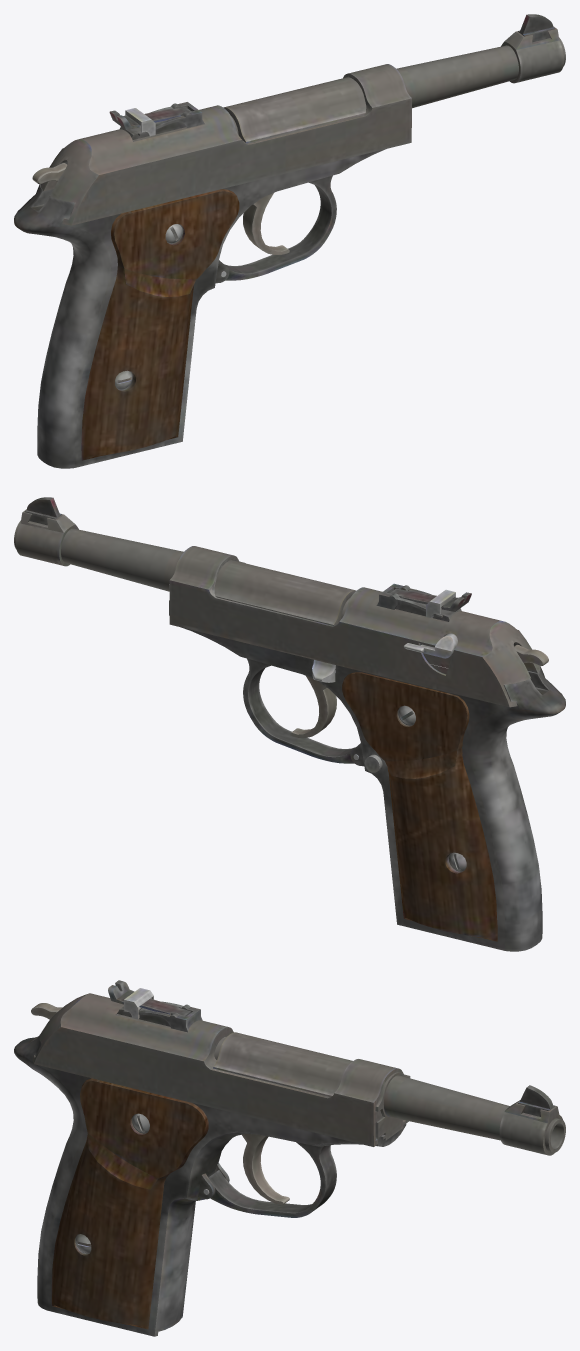
Rendered from service_pistol.glb.
3 renders of one model, top to bottom at view 1: azimuth 30°, elevation 25°; view 2: azimuth 150°, elevation 25°; view 3: azimuth 330°, elevation 25°, orthographic.
Visible parts, largest first — view 1: service_pistol; view 2: service_pistol; view 3: service_pistol.
Boxes of the visible parts, x1=… form: service_pistol: x1=14, y1=14, x2=565, y2=468; service_pistol: x1=14, y1=497, x2=565, y2=951; service_pistol: x1=14, y1=980, x2=565, y2=1336.
Size of the model in its own units: 0.2219 by 0.1295 by 0.0318.
1 material, 1 textured.
